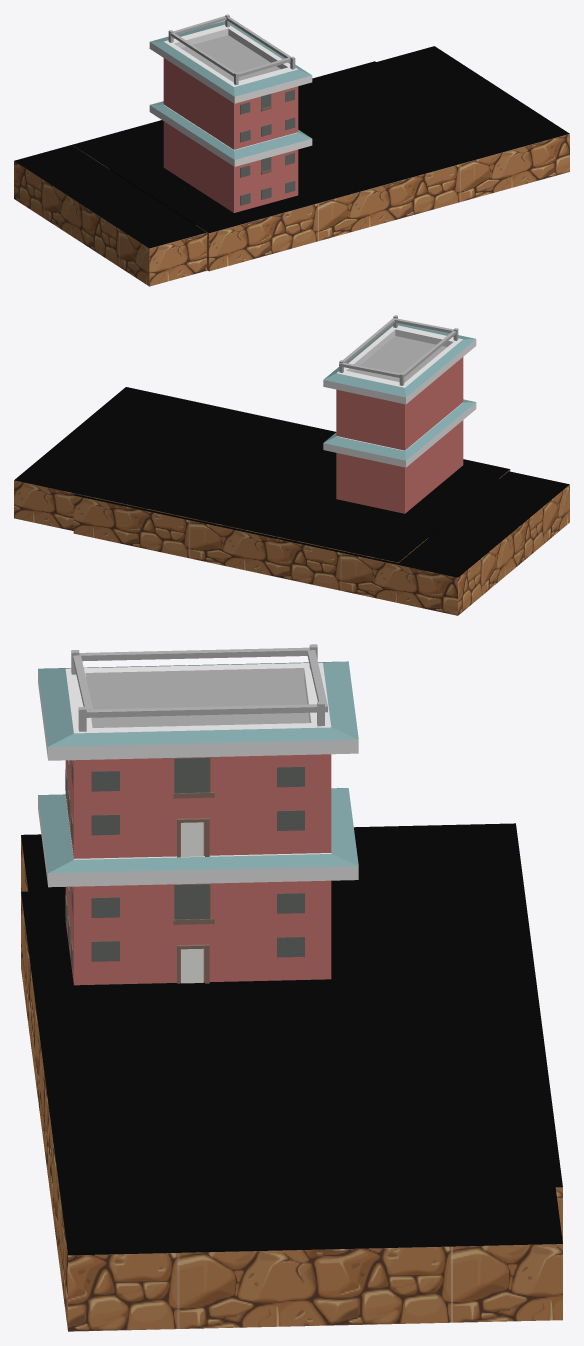
The picture shows the model from 3 angles, top to bottom: view 1: azimuth 30°, elevation 25°; view 2: azimuth 150°, elevation 25°; view 3: azimuth 270°, elevation 25°; orthographic projection. The views are drawn at different scales.
Parts seen in each view (by area): view 1: polySurface1090, polySurface946, polySurface1022; view 2: polySurface1090, polySurface1022, polySurface946; view 3: polySurface1090, polySurface946, polySurface1022.
Part boxes in pixels (x1,y1,x2,y2): polySurface1090: (74,46,569,271); polySurface946: (149,14,312,212); polySurface1022: (14,61,375,286); polySurface1090: (14,387,510,563); polySurface1022: (73,471,569,615); polySurface946: (323,315,476,513); polySurface1090: (21,880,562,1331); polySurface946: (38,644,358,985); polySurface1022: (21,823,562,1242).
Bounding box in the file's own units: 6.62 × 2.55 × 3.5.
11 materials, 1 textured.
